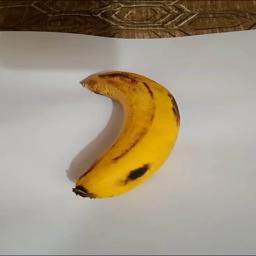Banana Semifresh: (69, 71, 184, 201)
